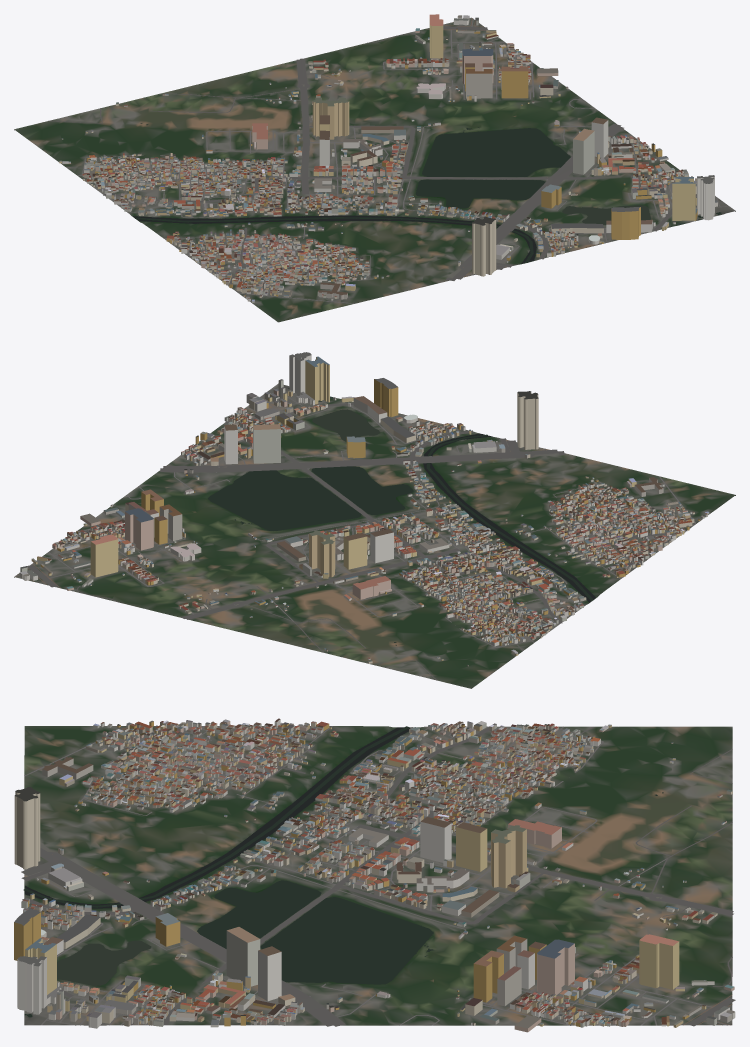
The picture shows the model from 3 angles, top to bottom: view 1: azimuth 30°, elevation 25°; view 2: azimuth 150°, elevation 25°; view 3: azimuth 270°, elevation 25°; orthographic projection. The views are drawn at different scales.
Visible parts, largest first — view 1: ground, buildings, water, roads; view 2: ground, buildings, water, roads; view 3: ground, buildings, water, roads.
Part boxes in pixels (box(x1,y1,x2,y2)): ground: box(14, 17, 735, 322); buildings: box(59, 14, 717, 302); water: box(133, 123, 721, 263); roads: box(48, 18, 729, 303); ground: box(14, 383, 735, 688); buildings: box(19, 352, 709, 666); water: box(208, 388, 595, 645); roads: box(15, 388, 696, 680); ground: box(24, 726, 732, 1025); buildings: box(14, 718, 735, 1032); water: box(23, 726, 663, 1017); roads: box(21, 725, 735, 1026).
Size of the model in its own units: 1438 by 153 by 1429.
